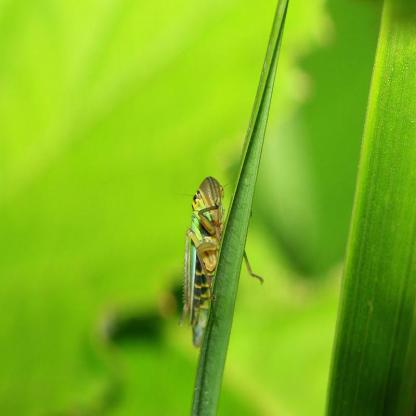Green-Leafhopper: (177, 170, 261, 344)
